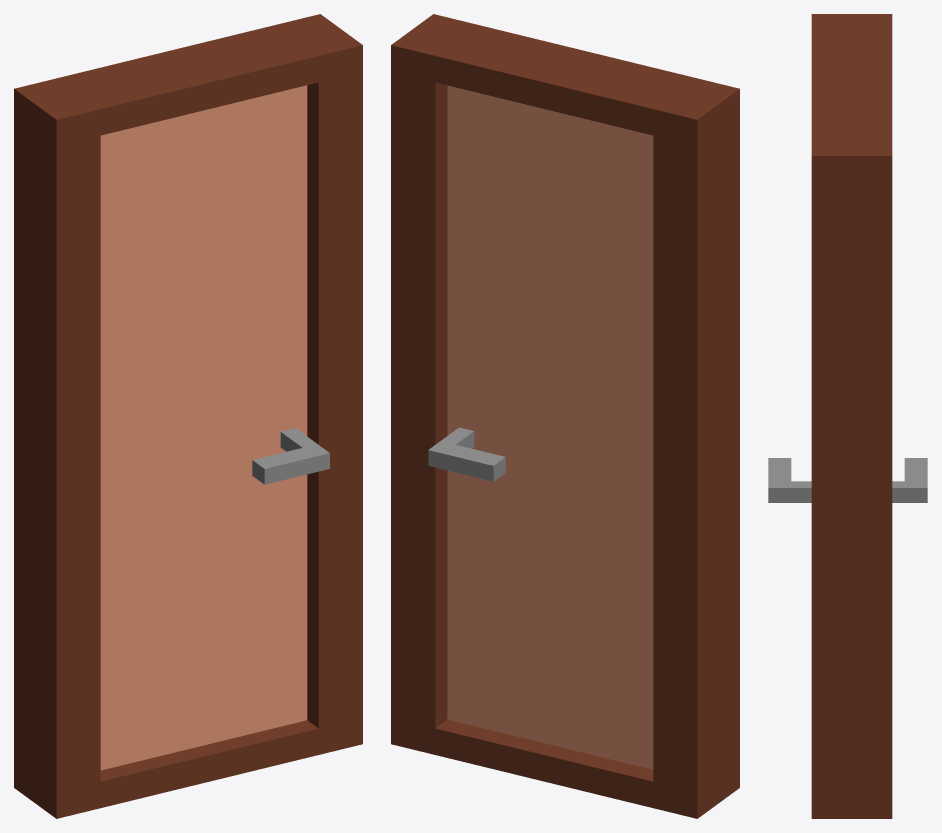
File: door_asset.dae
3 renders of one model, left to right at view 1: azimuth 30°, elevation 25°; view 2: azimuth 150°, elevation 25°; view 3: azimuth 270°, elevation 25°, orthographic. The views are drawn at different scales.
Parts seen in each view (by area): view 1: Door.003, Door.002, Door_Handle.002; view 2: Door.003, Door.002, Door_Handle.002; view 3: Door.002, Door_Handle.002.
Boxes of the visible parts, x1,y1,x2,y2 form: Door.003: (100, 85, 307, 770); Door.002: (14, 14, 362, 818); Door_Handle.002: (252, 428, 329, 484); Door.003: (447, 85, 653, 769); Door.002: (391, 14, 739, 818); Door_Handle.002: (428, 427, 505, 481); Door.002: (811, 14, 892, 818); Door_Handle.002: (768, 458, 927, 502).
Bounding box in the file's own units: 0.9222 × 0.4384 × 2.01.
